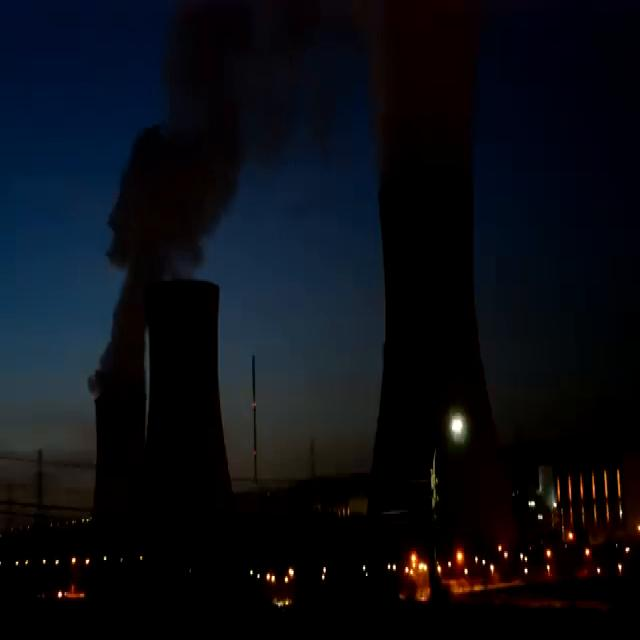smoke: (91, 0, 319, 404), (337, 0, 479, 181)
